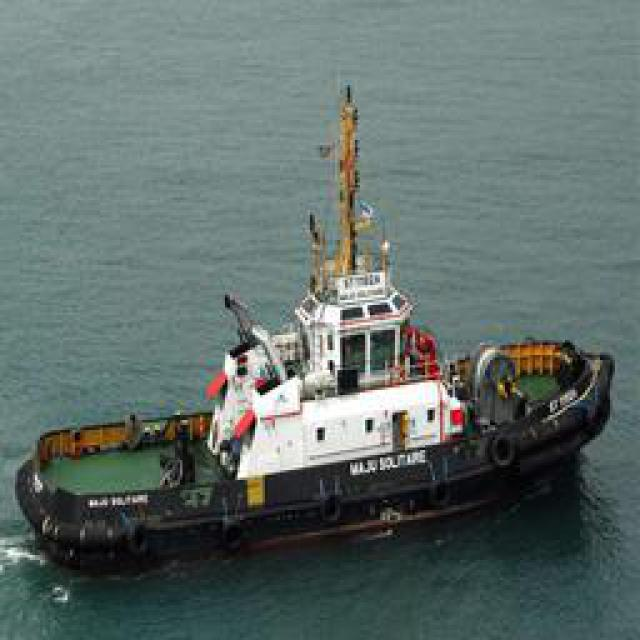Ship: (22, 145, 602, 575)
